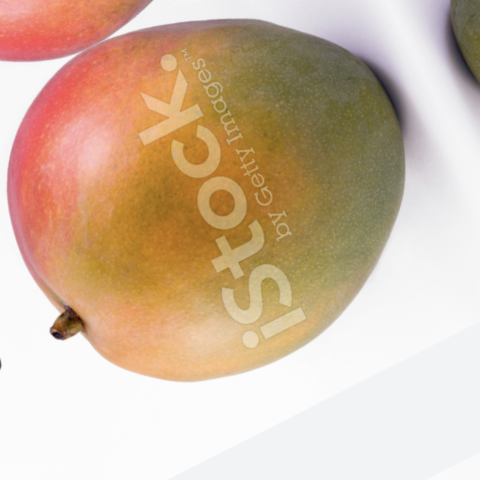mango: (0, 0, 480, 478)
